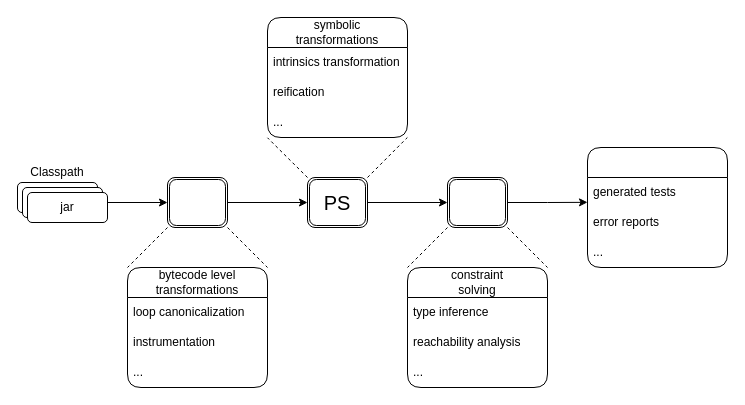
This 745x405 diagram has some shape labels left out. The box of each missing label's shape, as (x1, y1, x2, y2) in pixels:
Kfg: (166, 176, 228, 228)
resulting artifacts: (586, 146, 728, 268)
SMT: (446, 176, 508, 228)
